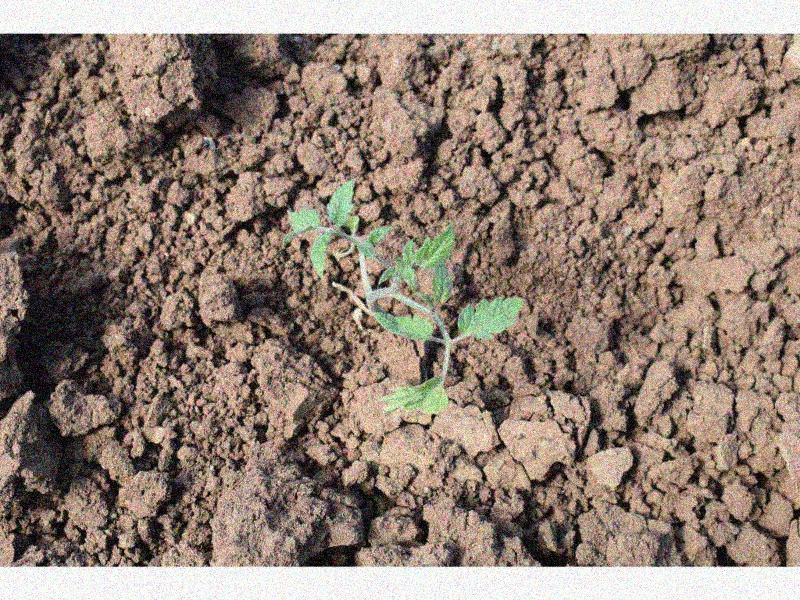tomato: (288, 179, 523, 414)
